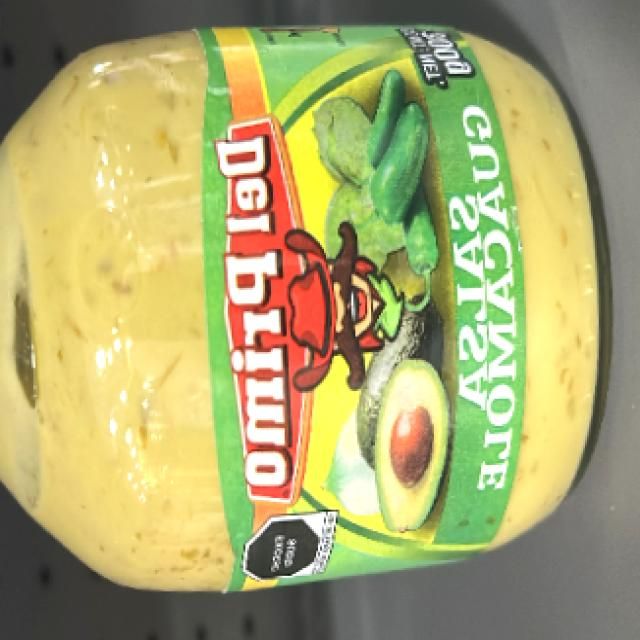delPrimoSalsa: (30, 51, 578, 550)
